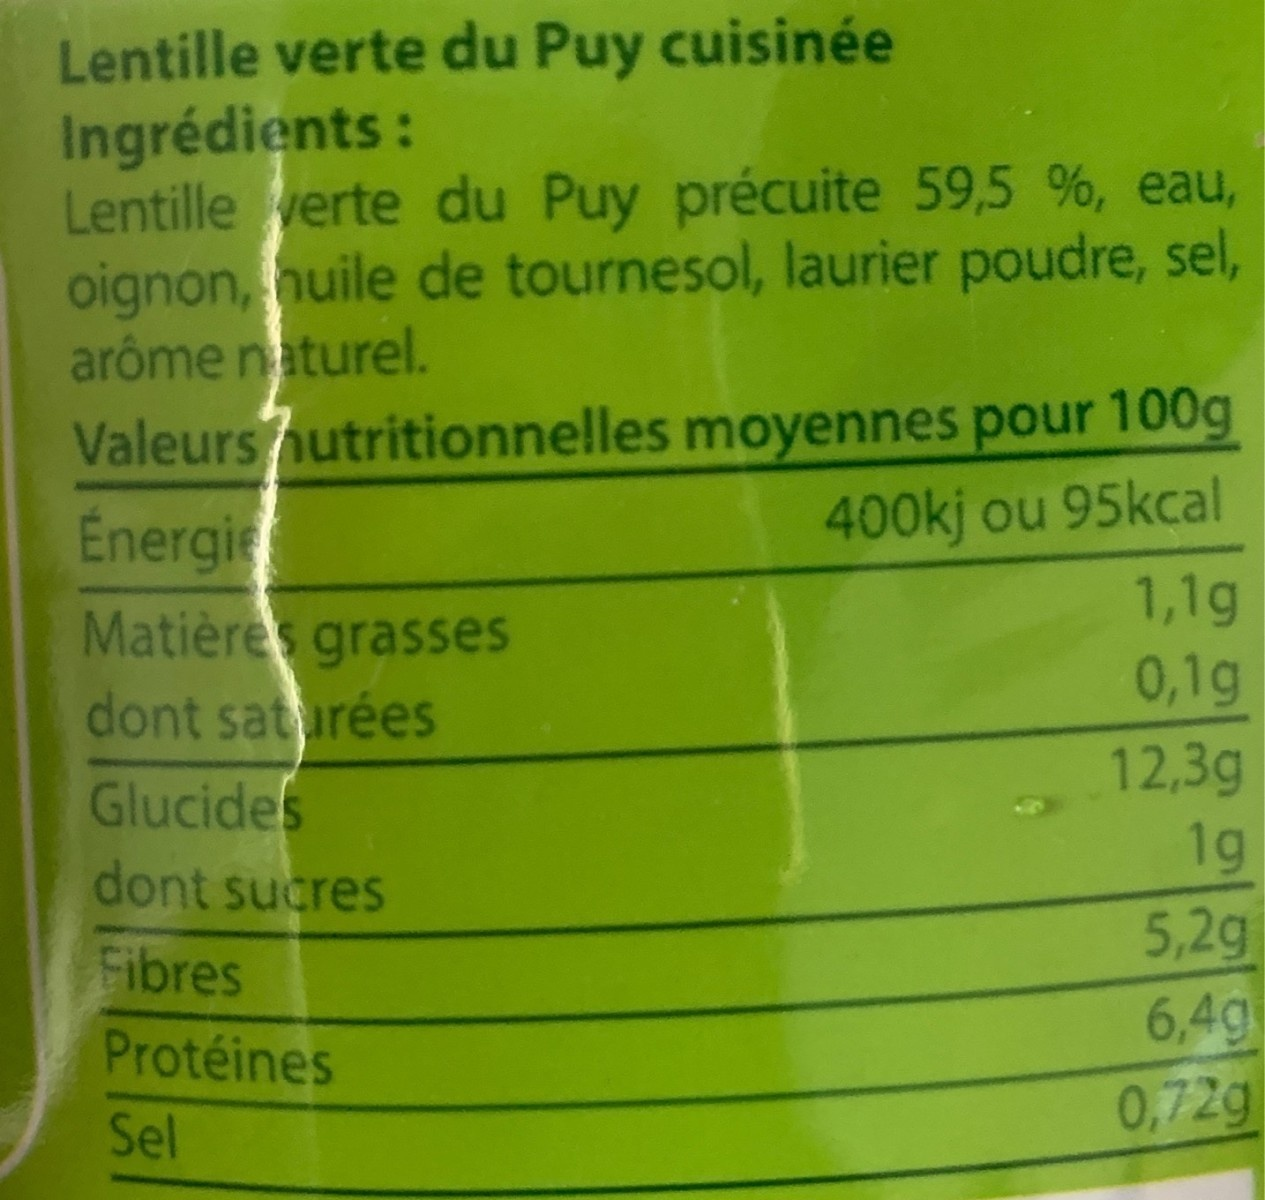column: (74, 506, 514, 1170), (819, 482, 1253, 1133)
table: (63, 389, 1257, 1170)
